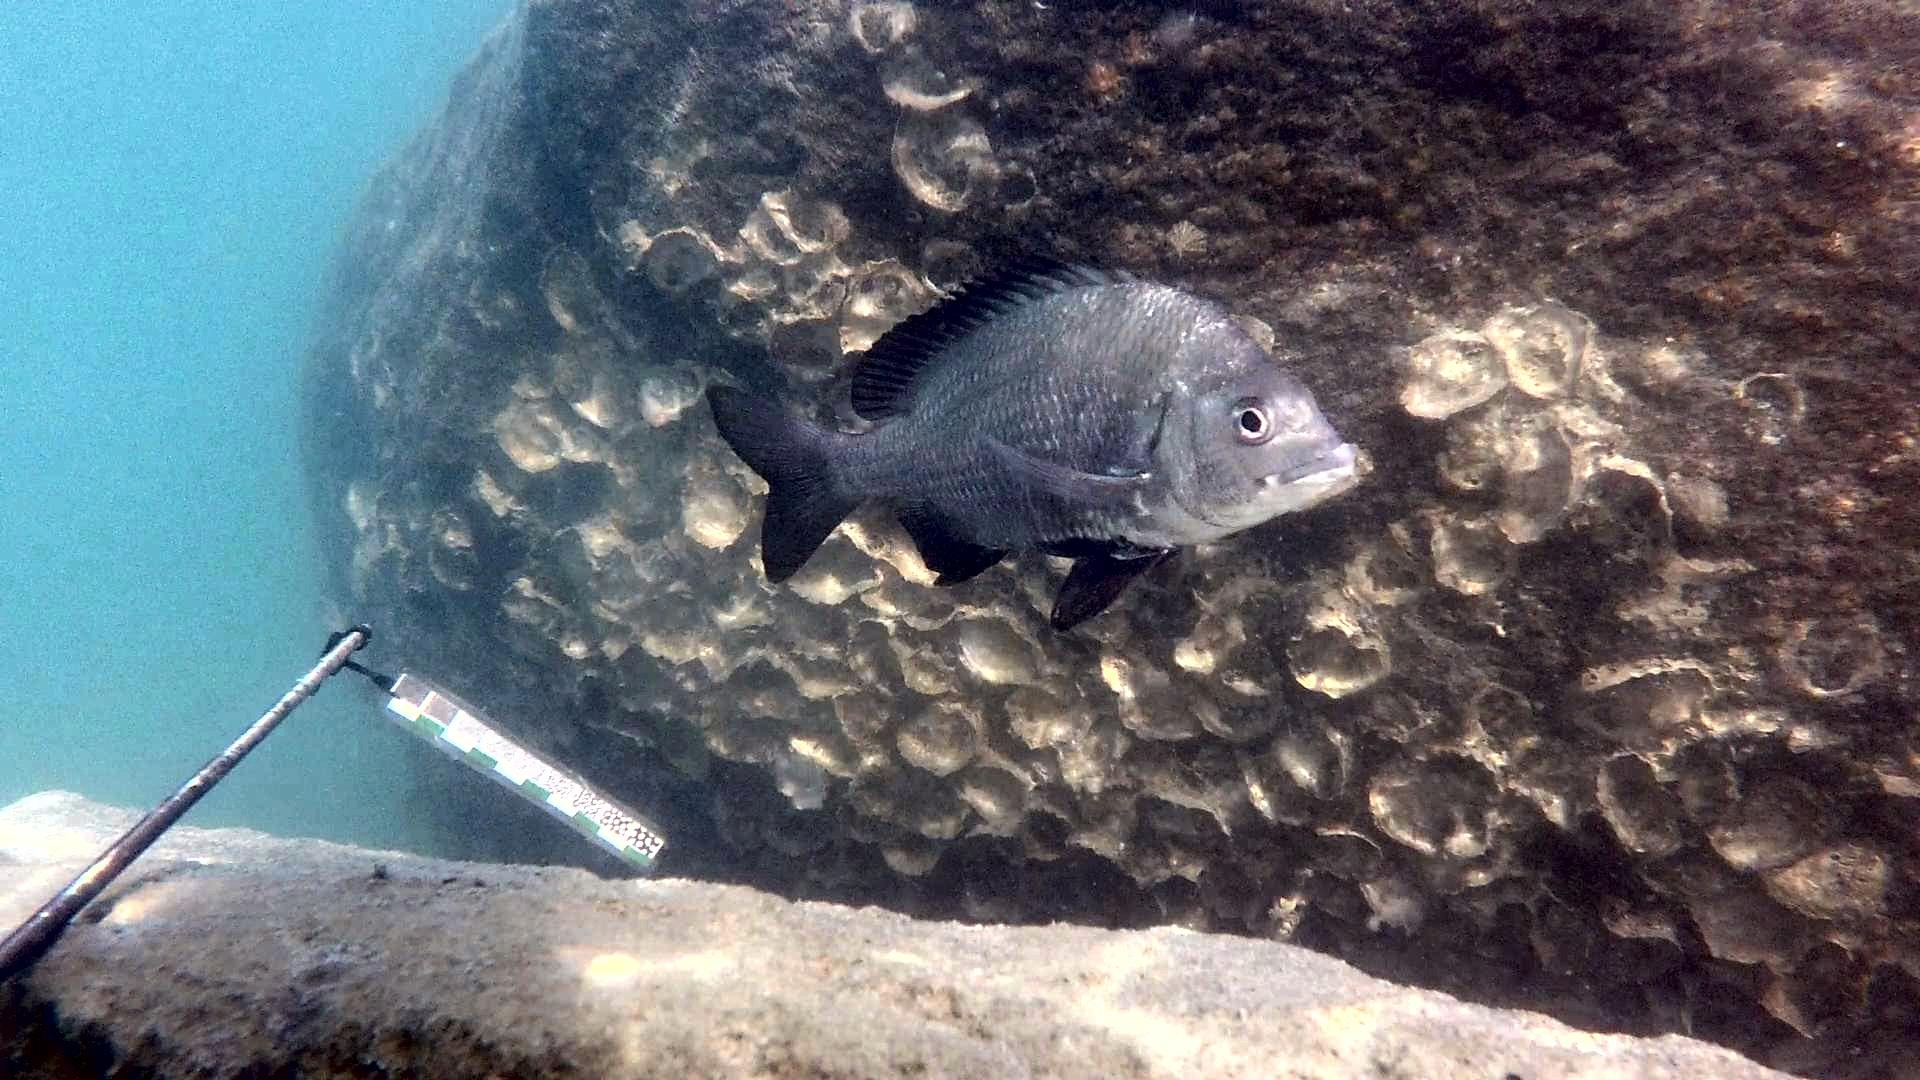acanthopagrus palmaris: (698, 251, 1362, 634)
